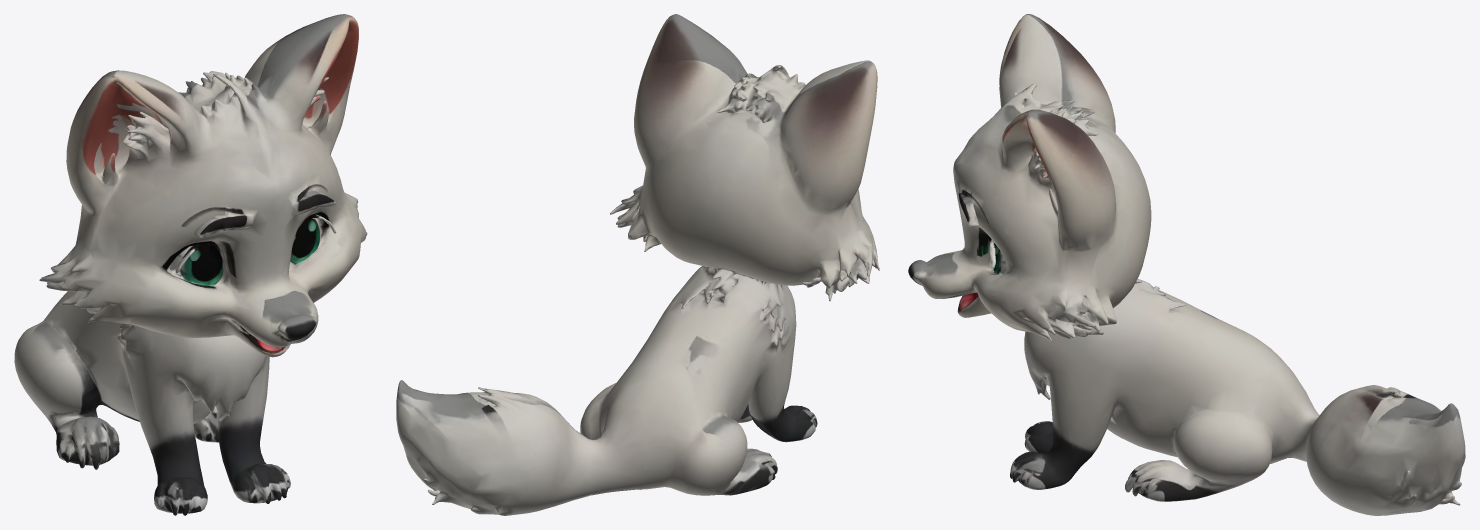
Rendered from zorro.glb.
3 views of the same model, side by side, from view 1: azimuth 30°, elevation 25°; view 2: azimuth 150°, elevation 25°; view 3: azimuth 270°, elevation 25° (orthographic). The views are drawn at different scales.
Parts seen in each view (by area): view 1: tripo_node_ff9c65ba-6a66-4d2c-8b3e-06ffc0559d47; view 2: tripo_node_ff9c65ba-6a66-4d2c-8b3e-06ffc0559d47; view 3: tripo_node_ff9c65ba-6a66-4d2c-8b3e-06ffc0559d47.
Part boxes in pixels (x1,y1,x2,y2): tripo_node_ff9c65ba-6a66-4d2c-8b3e-06ffc0559d47: (14,14,367,515); tripo_node_ff9c65ba-6a66-4d2c-8b3e-06ffc0559d47: (396,14,879,515); tripo_node_ff9c65ba-6a66-4d2c-8b3e-06ffc0559d47: (908,14,1465,515).
Bounding box in the file's own units: 0.6652 × 0.8023 × 0.9999.
1 material, 1 textured.
